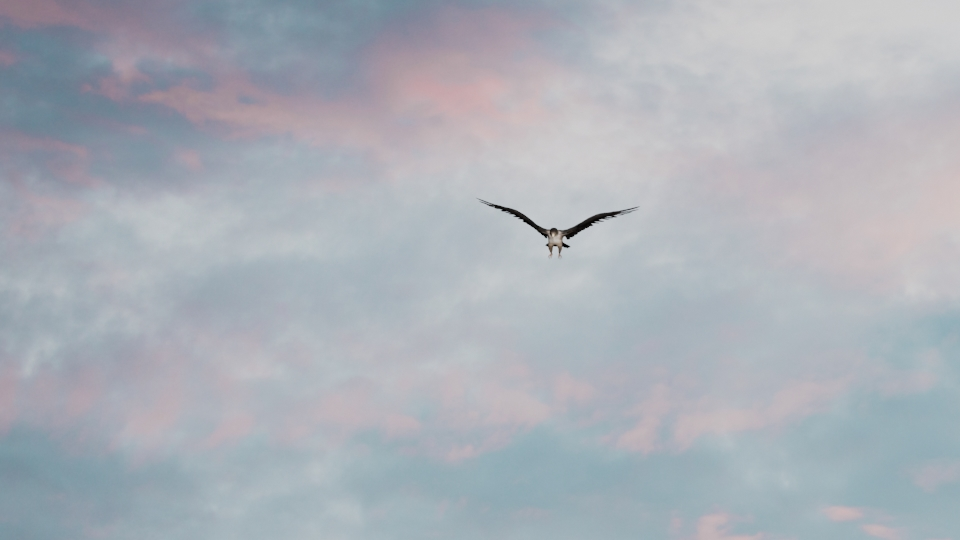bird: (467, 196, 639, 260)
